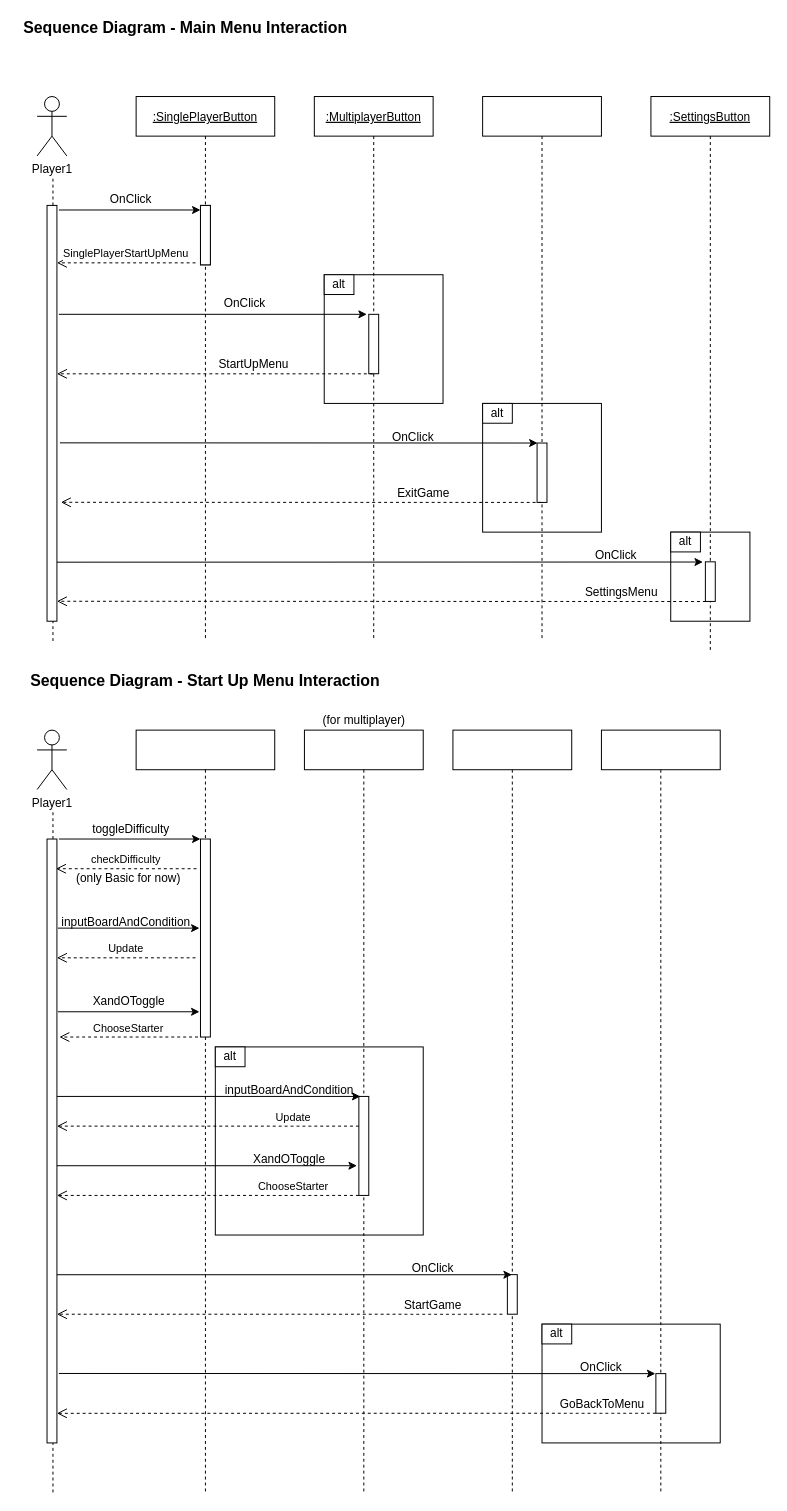
Image size: 787x1511. Some labels were removed from this diagram. Each missing label, with the box of its shape:
:BackButton: (600, 729, 720, 1492)
:ExitButton: (482, 96, 601, 641)
:SinglePlayerStartUp: (135, 729, 275, 1492)
:StartGameButton: (452, 729, 572, 1492)
:StartUpScene: (303, 729, 423, 1492)
